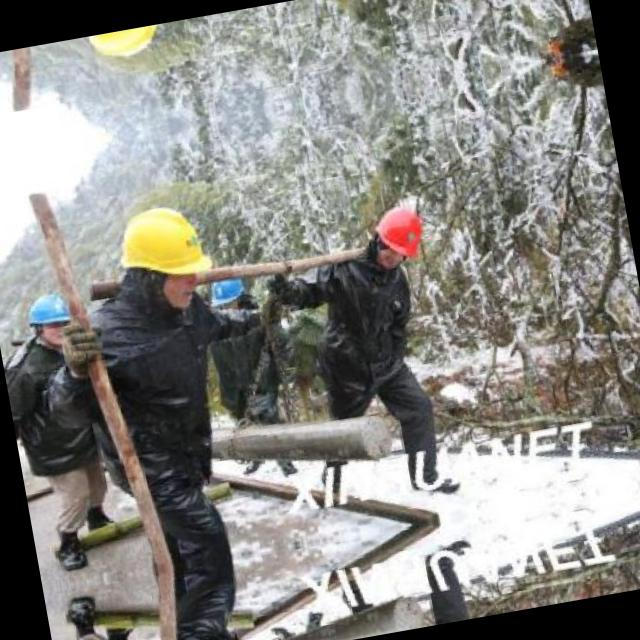helmet: (104, 192, 220, 320), (361, 190, 433, 276), (74, 21, 176, 69), (22, 289, 74, 347), (206, 262, 252, 314)
